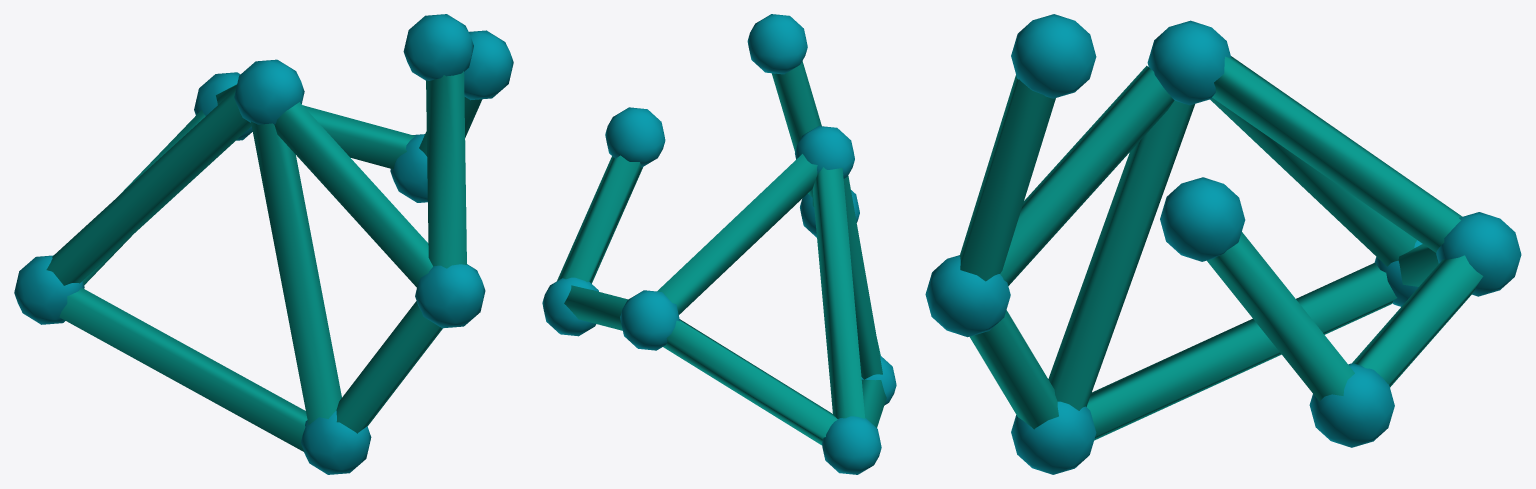
The model's file is NanoTech.fbx.
The picture shows the model from 3 angles, left to right: view 1: azimuth 30°, elevation 25°; view 2: azimuth 150°, elevation 25°; view 3: azimuth 270°, elevation 25°; orthographic projection. The views are drawn at different scales.
Visible parts, largest first — view 1: Cylinder.002; view 2: Cylinder.002; view 3: Cylinder.002.
Part boxes in pixels (box(x1,y1,x2,y2)): Cylinder.002: box(14, 14, 513, 474); Cylinder.002: box(542, 14, 896, 474); Cylinder.002: box(925, 14, 1521, 474).
Size of the model in its own units: 17.9 by 18.03 by 18.97.
